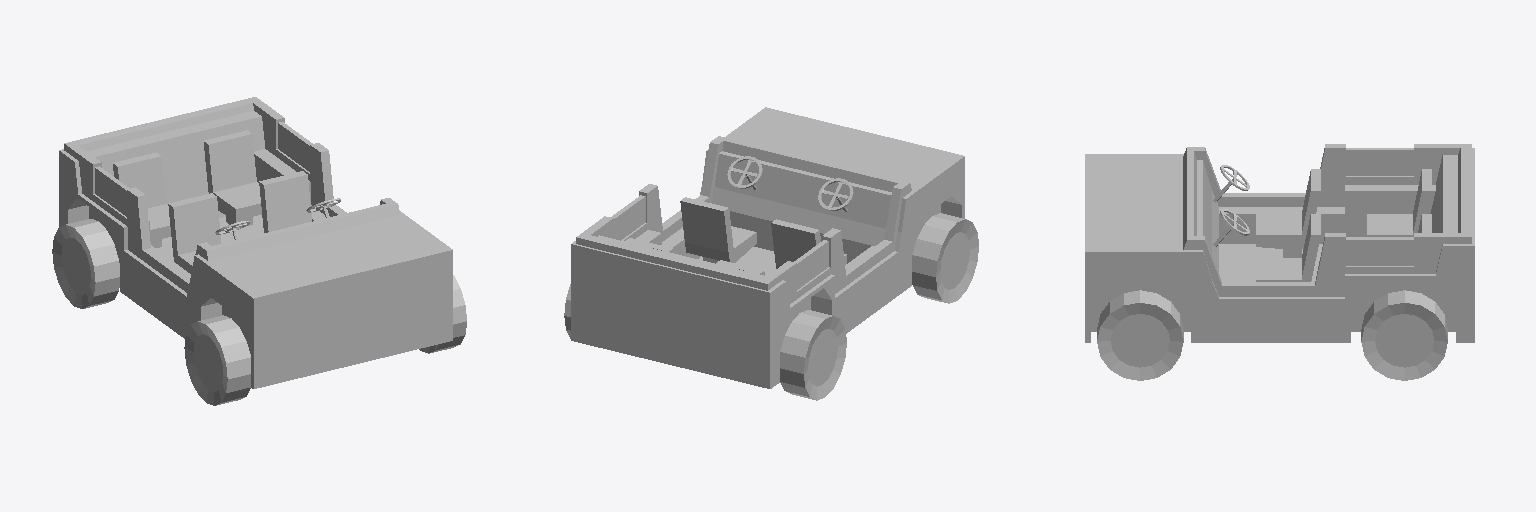
Rendered from jeep.obj.
3 views of the same model, side by side, from view 1: azimuth 30°, elevation 25°; view 2: azimuth 150°, elevation 25°; view 3: azimuth 270°, elevation 25° (orthographic).
Parts seen in each view (by area): view 1: Hull_Cube.001; view 2: Hull_Cube.001; view 3: Hull_Cube.001.
Part boxes in pixels (x1,y1,x2,y2): Hull_Cube.001: (52,97,466,405); Hull_Cube.001: (564,107,978,400); Hull_Cube.001: (1085,144,1474,380).
Bounding box in the file's own units: 2.64 × 1.4 × 3.72.